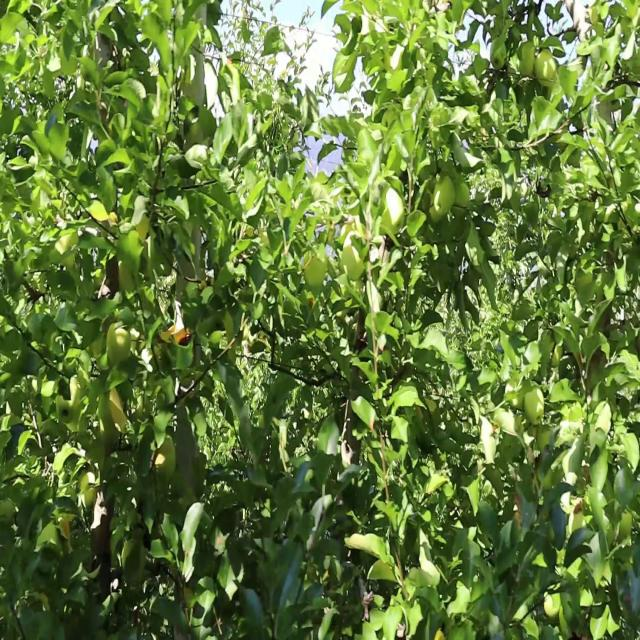apple: (342, 230, 367, 284), (382, 187, 405, 237), (106, 323, 132, 367), (154, 435, 176, 483), (432, 176, 455, 219), (524, 386, 545, 426), (305, 252, 326, 289), (516, 39, 536, 76), (536, 49, 557, 83), (489, 39, 506, 72)
